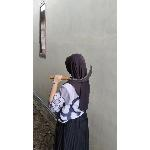Celurit: (50, 63, 96, 83)
